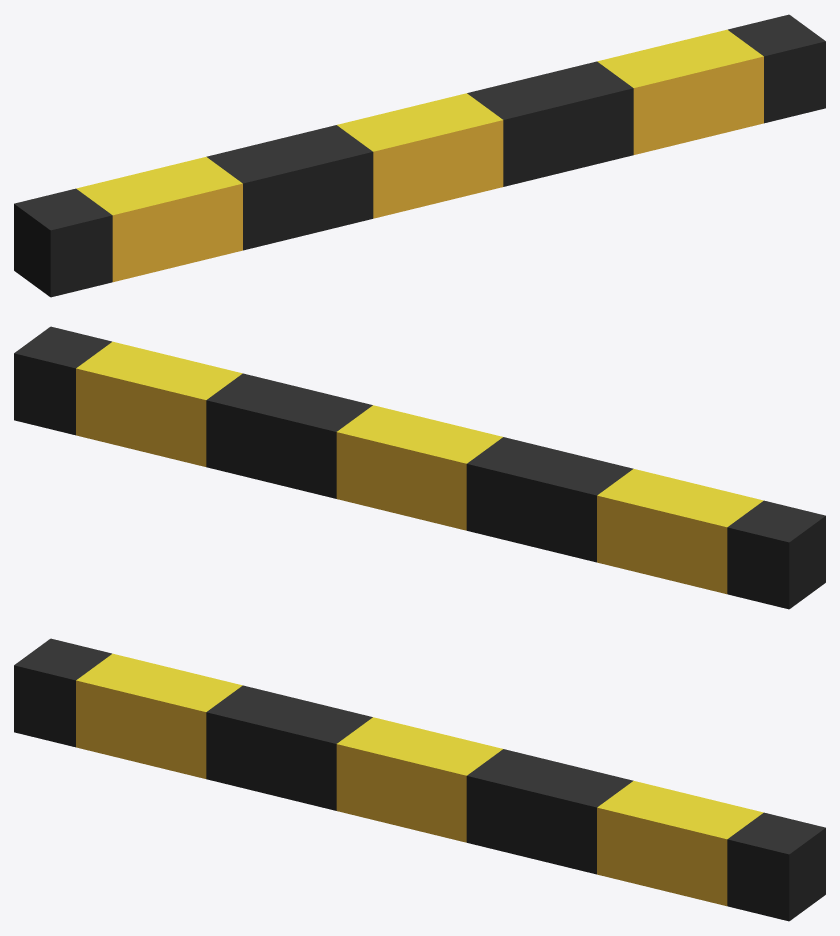
The model's file is exit_seal2.fbx.
3 renders of one model, top to bottom at view 1: azimuth 30°, elevation 25°; view 2: azimuth 150°, elevation 25°; view 3: azimuth 330°, elevation 25°, orthographic.
Parts seen in each view (by area): view 1: Object001; view 2: Object001; view 3: Object001.
Boxes of the visible parts, x1,y1,x2,y2 form: Object001: [14, 14, 825, 297]; Object001: [14, 326, 825, 609]; Object001: [14, 638, 825, 921].
Bounding box in the file's own units: 202 × 16.65 × 16.51.
